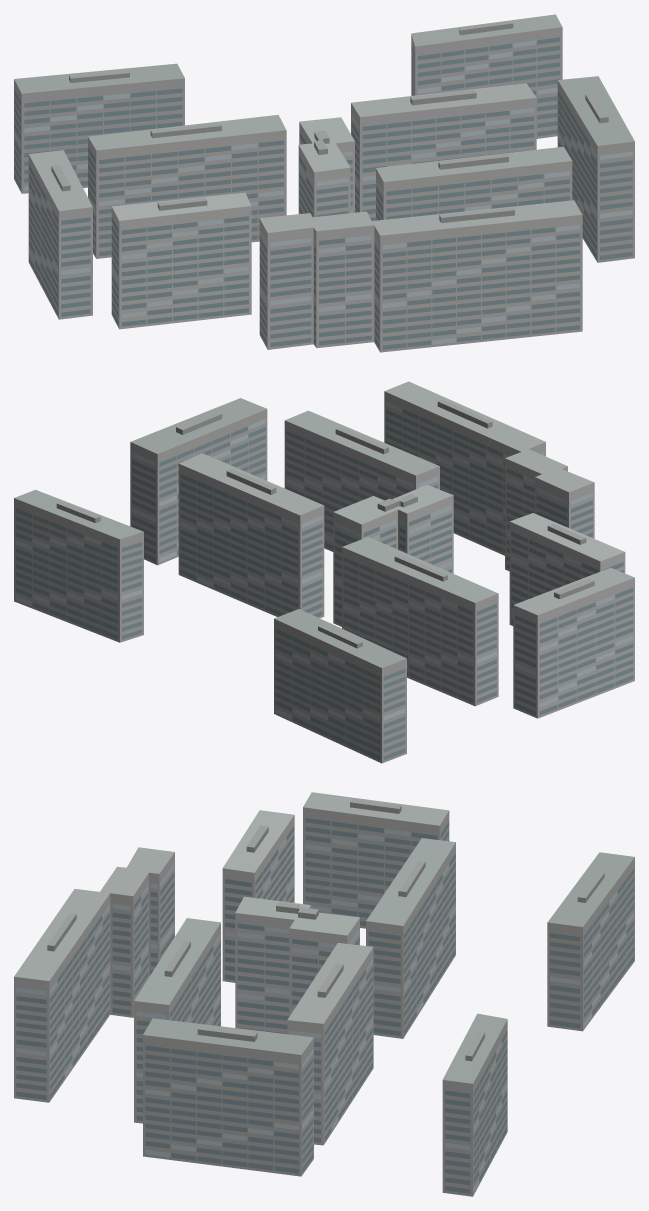
The model's file is apt-a15778101.glb.
3 views of the same model, one above another, from view 1: azimuth 30°, elevation 25°; view 2: azimuth 150°, elevation 25°; view 3: azimuth 270°, elevation 25° (orthographic). The views are drawn at different scales.
Parts seen in each view (by area): view 1: apt-a15778101; view 2: apt-a15778101; view 3: apt-a15778101.
Part boxes in pixels (x1=…): apt-a15778101: x1=14, y1=14, x2=634, y2=352; apt-a15778101: x1=14, y1=381, x2=634, y2=763; apt-a15778101: x1=14, y1=792, x2=634, y2=1196.
Size of the model in its own units: 220 by 44.62 by 198.
